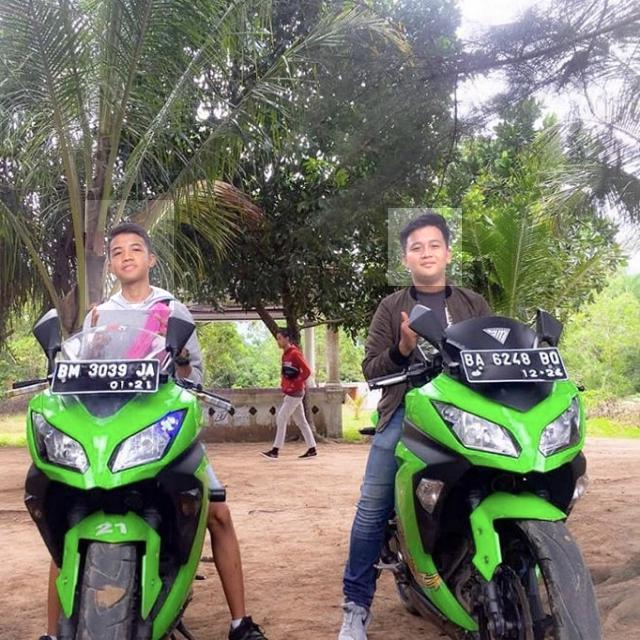No_Helmet: (85, 200, 174, 310), (388, 208, 462, 286)
